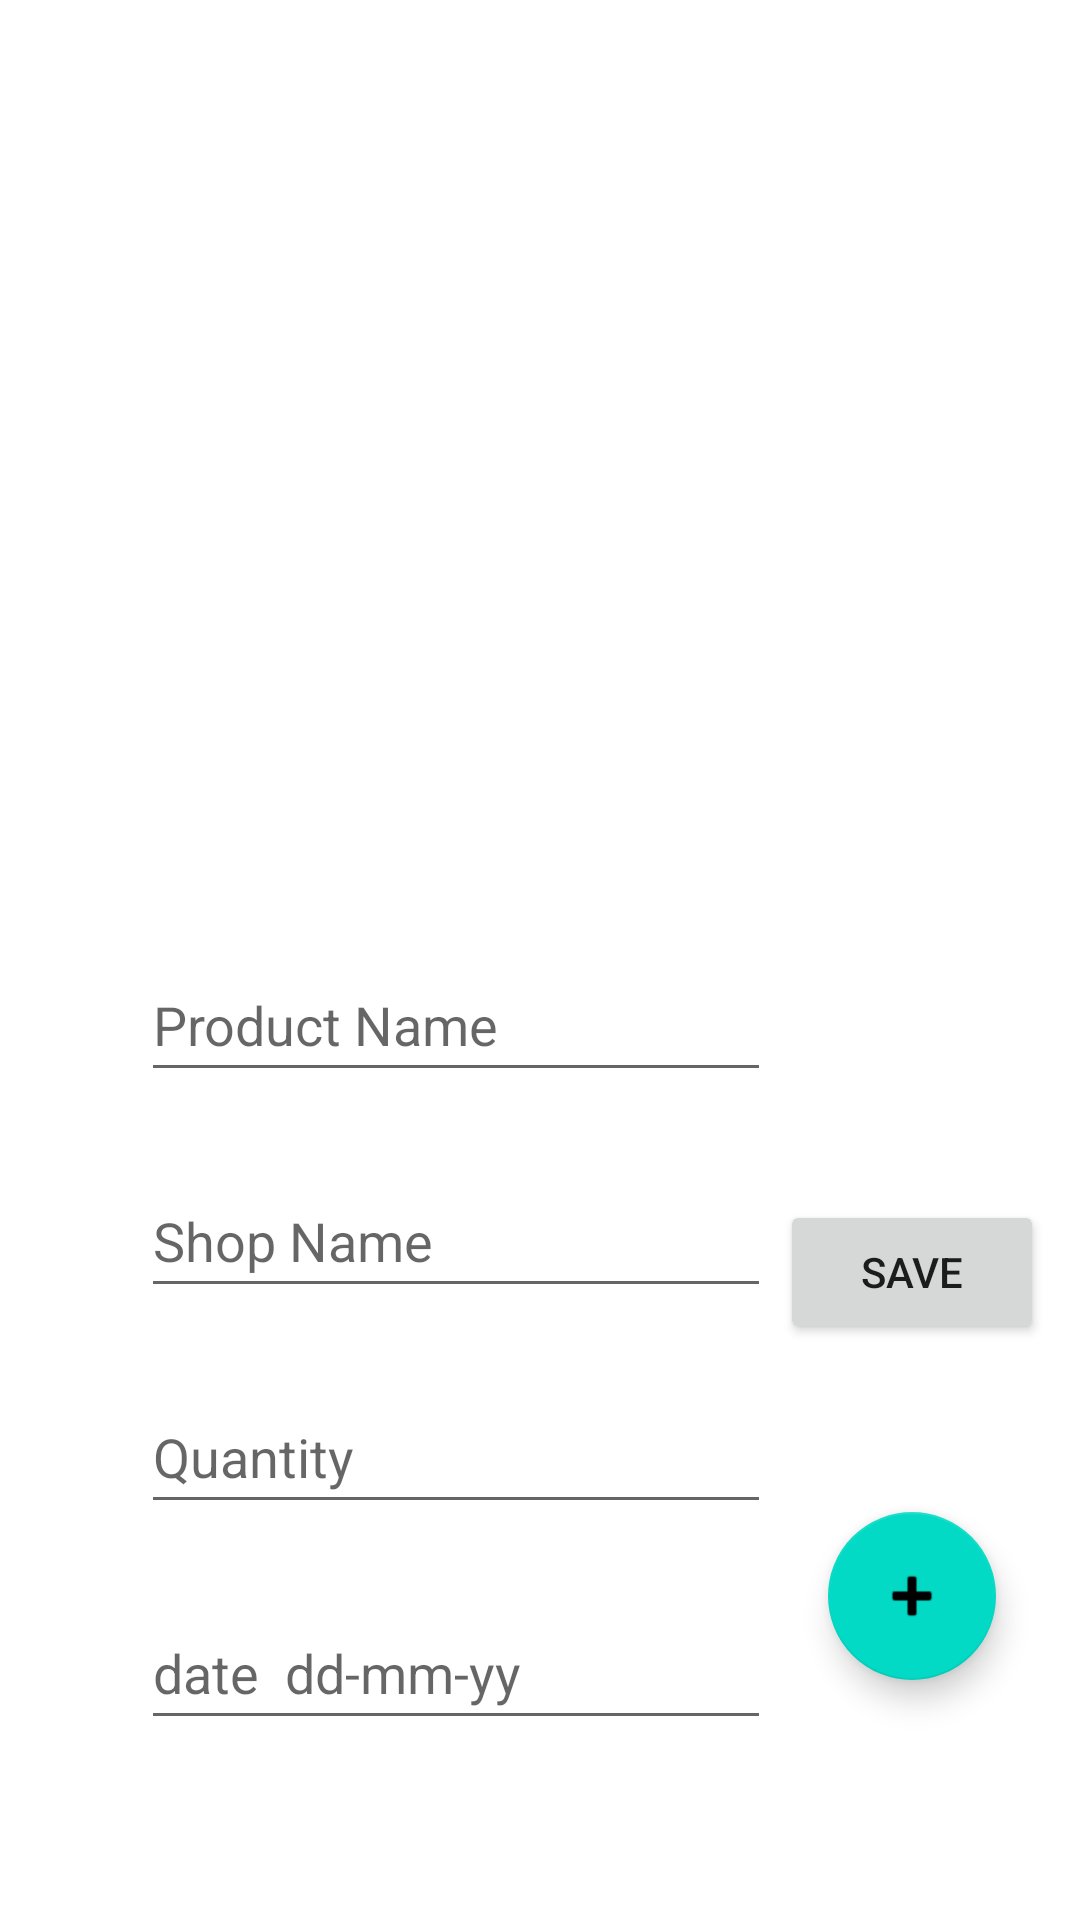

Screen size 1080px×1920px. Icon name, then its center in pixels as (x=x, y=y):
add: (x=912, y=1596)
